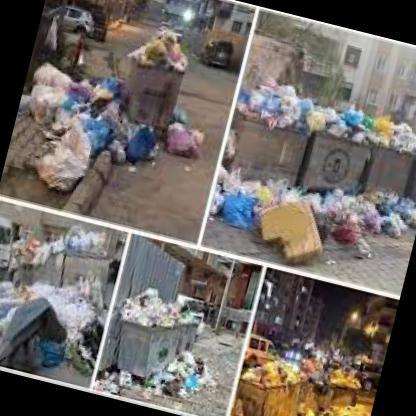Garbage: (202, 172, 343, 266), (0, 278, 98, 388), (25, 104, 117, 204), (20, 58, 121, 144), (316, 190, 415, 275), (108, 121, 196, 183), (309, 103, 407, 150), (233, 79, 312, 129), (124, 292, 183, 329), (242, 358, 292, 392), (324, 367, 360, 389), (310, 404, 371, 415), (407, 125, 415, 156)
